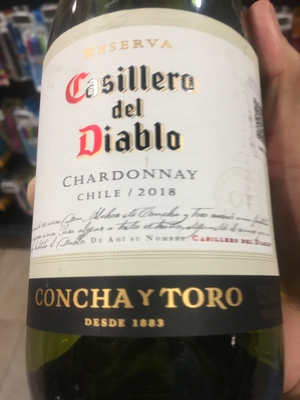casillero del diablo chardonnay: (20, 12, 294, 395)
